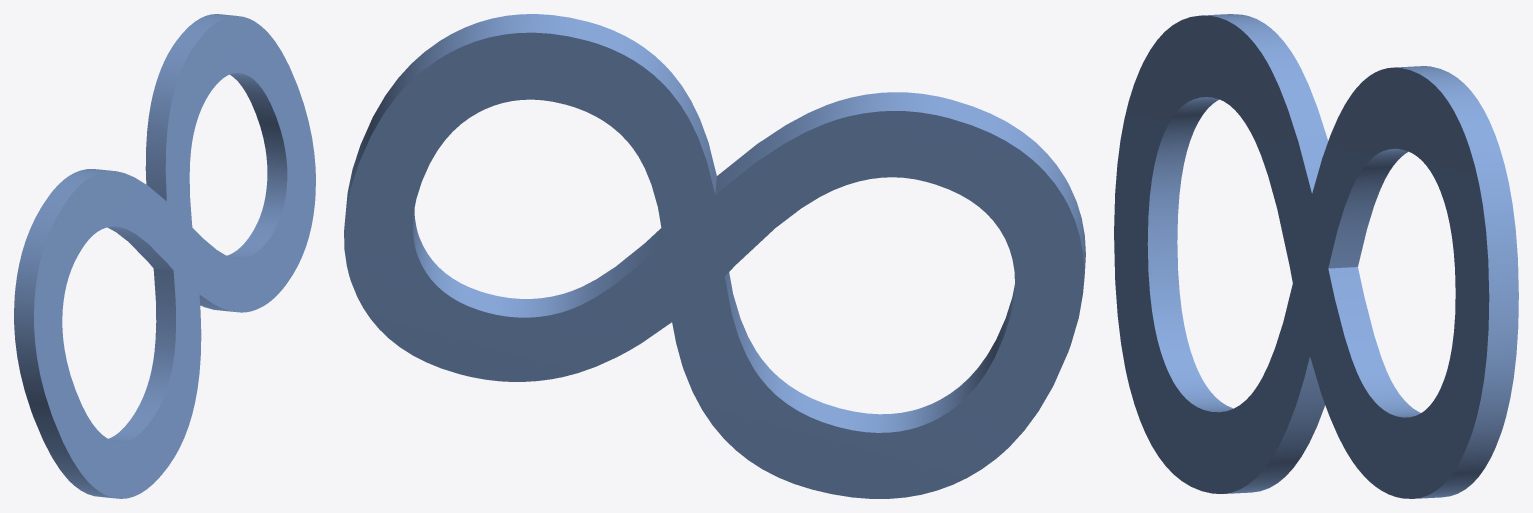
The model's file is New_Number_8.gltf.
3 views of the same model, side by side, from view 1: azimuth 30°, elevation 25°; view 2: azimuth 150°, elevation 25°; view 3: azimuth 270°, elevation 25° (orthographic). The views are drawn at different scales.
Parts seen in each view (by area): view 1: Part 548; view 2: Part 548; view 3: Part 548.
Boxes of the visible parts, x1,y1,x2,y2 form: Part 548: (14, 14, 315, 498); Part 548: (344, 14, 1085, 498); Part 548: (1114, 14, 1518, 498).
Bounding box in the file's own units: 0.00506 × 0.00427 × 0.00305.
